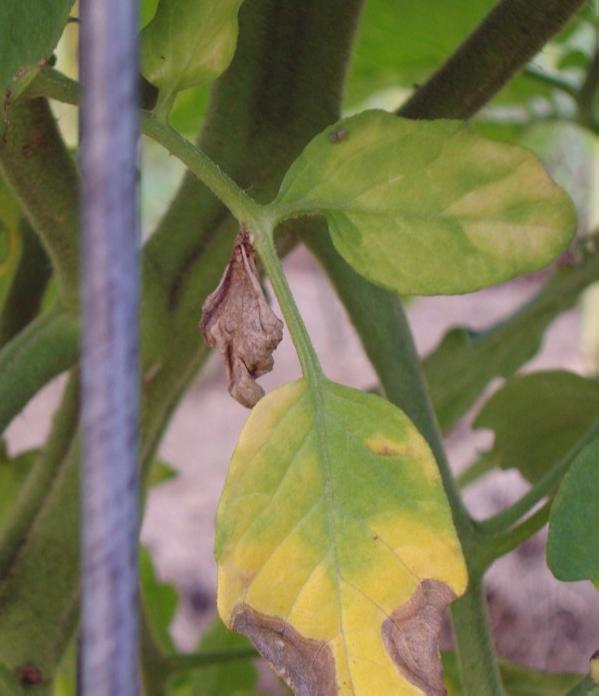Tomato Early blight leaf: (208, 370, 458, 696)
